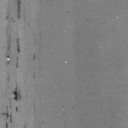slag inclusion: (2, 106, 12, 128), (12, 82, 21, 103), (16, 0, 22, 18), (7, 32, 11, 51), (16, 38, 20, 53), (16, 56, 19, 68), (32, 53, 36, 60), (14, 106, 18, 112), (6, 14, 9, 21), (6, 55, 11, 58)
